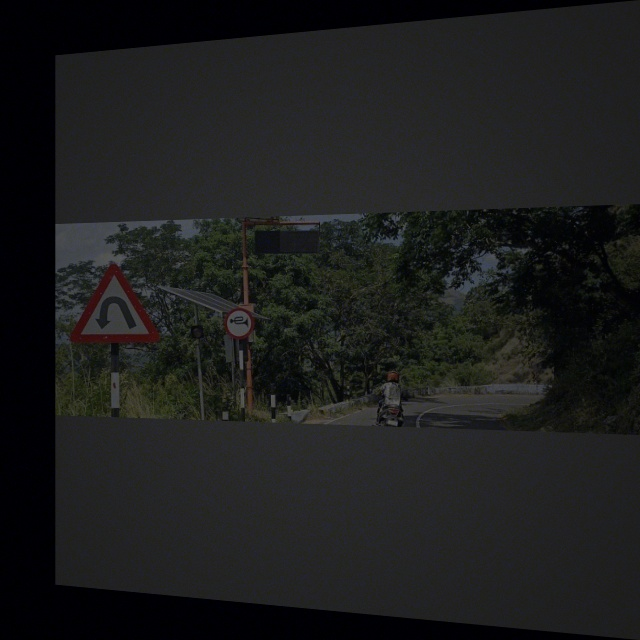Left_Hair_Pin_Bend: (69, 258, 162, 348)
